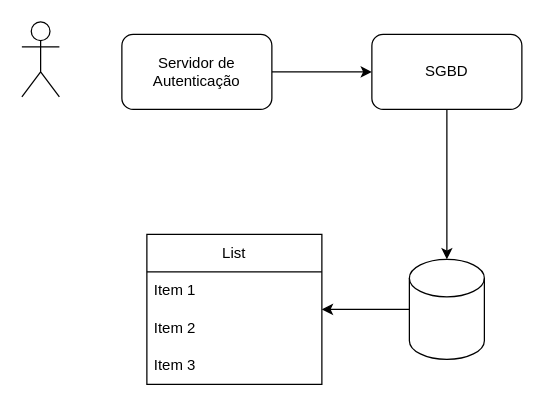
Some shapes in this 544 by 406 pixel diagram are drawn without their labels. Each missing label, with the centre of its shape:
"Actor" belongs at (40,59).
"BD" belongs at (446,308).
